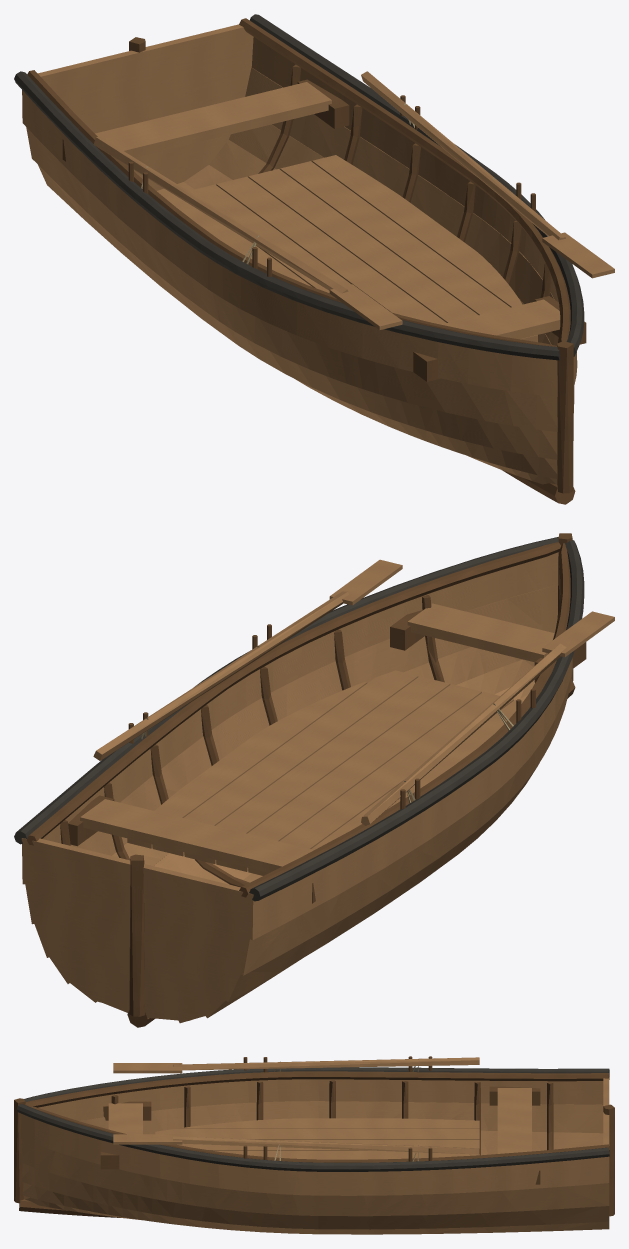
Rendered from ship_lod1.glb.
3 views of the same model, one above another, from view 1: azimuth 30°, elevation 25°; view 2: azimuth 150°, elevation 25°; view 3: azimuth 270°, elevation 25° (orthographic). The views are drawn at different scales.
Parts seen in each view (by area): view 1: lod1_strake_starboard_06, lod1_transom, lod1_strake_starboard_05, lod1_strake_starboard_04, lod1_strake_port_05, lod1_gunwale_1_001, lod1_end_thwart_00, lod1_strake_port_06, lod1_sole_board_05, lod1_sole_board_04, lod1_sole_board_03, lod1_sole_board_06 (+17 smaller); view 2: lod1_transom, lod1_strake_port_06, lod1_strake_port_05, lod1_strake_starboard_06, lod1_strake_starboard_05, lod1_inwale_1, lod1_gunwale_1_001, lod1_end_thwart_00, lod1_sole_board_03, lod1_sole_board_04, lod1_sole_board_05, lod1_sole_board_02 (+17 smaller); view 3: lod1_strake_port_06, lod1_strake_port_05, lod1_strake_starboard_06, lod1_strake_port_04, lod1_strake_starboard_05, lod1_gunwale_1, lod1_inwale_1_001, lod1_strake_port_03, lod1_sole_board_01, lod1_gunwale_1_001, lod1_sole_board_00, lod1_end_thwart_00 (+23 smaller).
Part boxes in pixels (x1=…): lod1_strake_starboard_06: x1=22, y1=90, x2=557, y2=396; lod1_transom: x1=38, y1=24, x2=253, y2=190; lod1_strake_starboard_05: x1=26, y1=127, x2=557, y2=431; lod1_strake_starboard_04: x1=38, y1=165, x2=557, y2=459; lod1_strake_port_05: x1=245, y1=67, x2=574, y2=412; lod1_gunwale_1_001: x1=14, y1=71, x2=560, y2=360; lod1_end_thwart_00: x1=95, y1=82, x2=331, y2=157; lod1_strake_port_06: x1=251, y1=37, x2=577, y2=386; lod1_sole_board_05: x1=280, y1=161, x2=537, y2=342; lod1_sole_board_04: x1=248, y1=169, x2=478, y2=322; lod1_sole_board_03: x1=216, y1=176, x2=446, y2=324; lod1_sole_board_06: x1=312, y1=155, x2=522, y2=307; lod1_transom: x1=21, y1=838, x2=253, y2=1020; lod1_strake_port_06: x1=22, y1=552, x2=558, y2=884; lod1_strake_port_05: x1=25, y1=585, x2=558, y2=924; lod1_strake_starboard_06: x1=249, y1=658, x2=572, y2=940; lod1_strake_starboard_05: x1=240, y1=669, x2=572, y2=975; lod1_inwale_1: x1=26, y1=542, x2=560, y2=845; lod1_gunwale_1_001: x1=249, y1=540, x2=584, y2=901; lod1_end_thwart_00: x1=80, y1=799, x2=313, y2=872; lod1_sole_board_03: x1=216, y1=684, x2=481, y2=871; lod1_sole_board_04: x1=184, y1=676, x2=450, y2=863; lod1_sole_board_05: x1=152, y1=670, x2=418, y2=856; lod1_sole_board_02: x1=248, y1=692, x2=513, y2=875; lod1_strake_port_06: x1=20, y1=1114, x2=609, y2=1195; lod1_strake_port_05: x1=21, y1=1139, x2=609, y2=1216; lod1_strake_starboard_06: x1=38, y1=1079, x2=603, y2=1120; lod1_strake_port_04: x1=21, y1=1163, x2=609, y2=1229; lod1_strake_starboard_05: x1=79, y1=1101, x2=603, y2=1134; lod1_gunwale_1: x1=16, y1=1104, x2=609, y2=1171; lod1_inwale_1_001: x1=25, y1=1071, x2=609, y2=1107; lod1_strake_port_03: x1=22, y1=1183, x2=609, y2=1234; lod1_sole_board_01: x1=155, y1=1129, x2=479, y2=1139; lod1_gunwale_1_001: x1=24, y1=1067, x2=609, y2=1101; lod1_sole_board_00: x1=181, y1=1118, x2=479, y2=1128; lod1_end_thwart_00: x1=497, y1=1088, x2=531, y2=1153.
Bounding box in the file's own units: 1.3 × 0.7501 × 3.31.
Materials: 4 (4 with a texture image).
